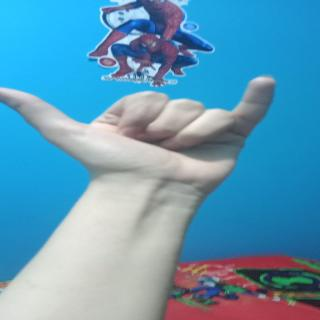YA: (0, 77, 300, 181)
